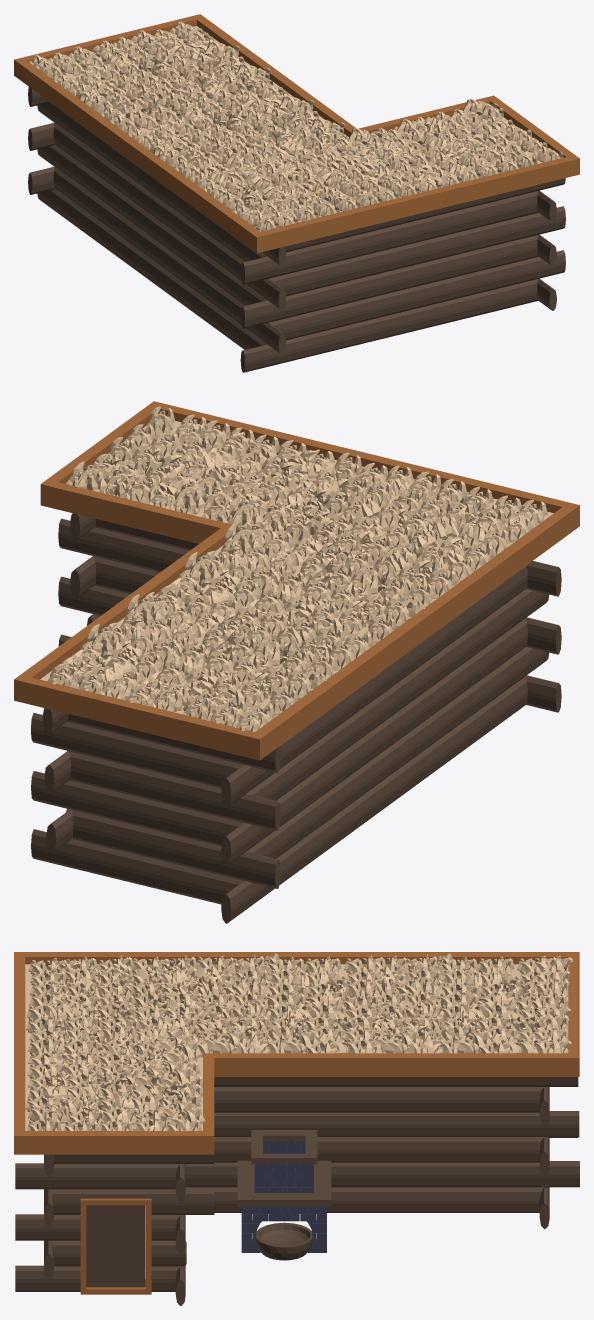
The model's file is IronHouse.fbx.
3 views of the same model, one above another, from view 1: azimuth 30°, elevation 25°; view 2: azimuth 150°, elevation 25°; view 3: azimuth 270°, elevation 25° (orthographic). The views are drawn at different scales.
Visible parts, largest first — view 1: StoneHouse; view 2: StoneHouse; view 3: StoneHouse.
Part boxes in pixels (x1,y1,x2,y2): StoneHouse: [14, 14, 579, 372]; StoneHouse: [14, 401, 579, 923]; StoneHouse: [14, 952, 579, 1305].
Bounding box in the file's own units: 1532 × 711 × 1995.
